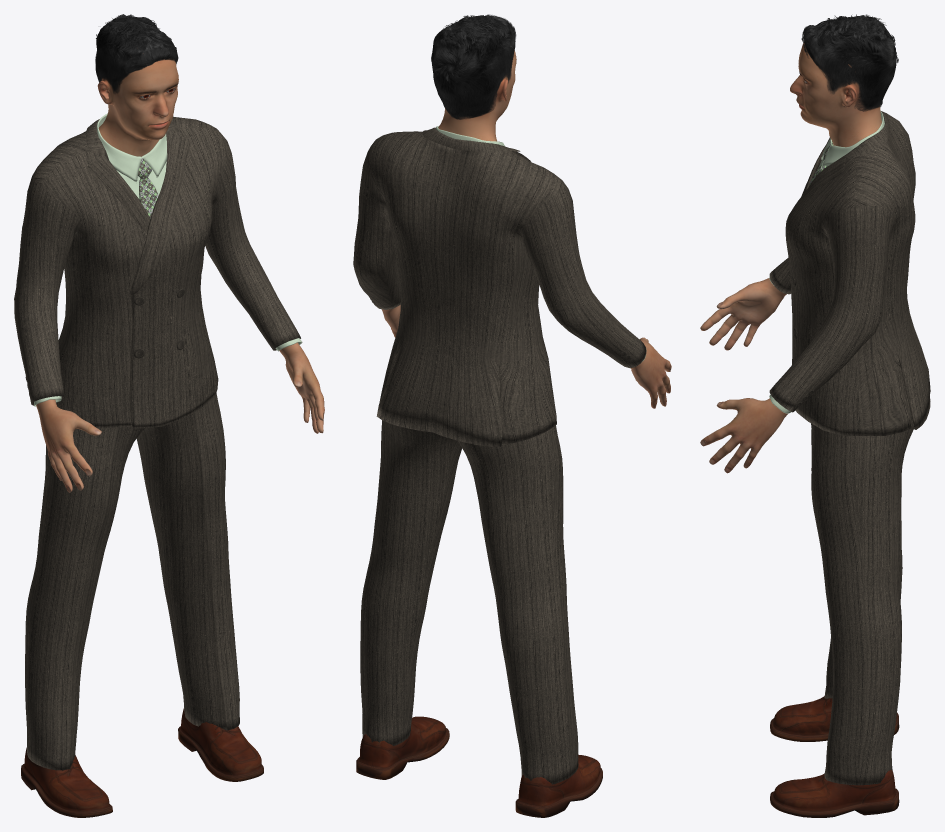
File: contact_idle.glb
The picture shows the model from 3 angles, left to right: view 1: azimuth 30°, elevation 25°; view 2: azimuth 150°, elevation 25°; view 3: azimuth 270°, elevation 25°; orthographic projection.
Visible parts, largest first — view 1: ContactIdle_ContactBody.toigo_male_double-breasted_suit, ContactIdle_ContactBody, ContactIdle_ContactBody.shoes01, ContactIdle_ContactBody.short01; view 2: ContactIdle_ContactBody.toigo_male_double-breasted_suit, ContactIdle_ContactBody.short01, ContactIdle_ContactBody.shoes01, ContactIdle_ContactBody; view 3: ContactIdle_ContactBody.toigo_male_double-breasted_suit, ContactIdle_ContactBody, ContactIdle_ContactBody.shoes01, ContactIdle_ContactBody.short01.
Boxes of the visible parts, x1=… form: ContactIdle_ContactBody.toigo_male_double-breasted_suit: x1=14, y1=113, x2=302, y2=770; ContactIdle_ContactBody: x1=36, y1=59, x2=324, y2=492; ContactIdle_ContactBody.shoes01: x1=21, y1=708, x2=263, y2=817; ContactIdle_ContactBody.short01: x1=95, y1=14, x2=178, y2=93; ContactIdle_ContactBody.toigo_male_double-breasted_suit: x1=353, y1=126, x2=646, y2=784; ContactIdle_ContactBody.short01: x1=431, y1=14, x2=516, y2=119; ContactIdle_ContactBody.shoes01: x1=356, y1=716, x2=602, y2=817; ContactIdle_ContactBody: x1=382, y1=50, x2=671, y2=408; ContactIdle_ContactBody.toigo_male_double-breasted_suit: x1=769, y1=110, x2=930, y2=785; ContactIdle_ContactBody: x1=700, y1=42, x2=881, y2=473; ContactIdle_ContactBody.shoes01: x1=770, y1=696, x2=899, y2=817; ContactIdle_ContactBody.short01: x1=801, y1=14, x2=898, y2=111.
Size of the model in its own units: 0.6511 by 1.75 by 0.4863.
7 materials, 7 textured.
